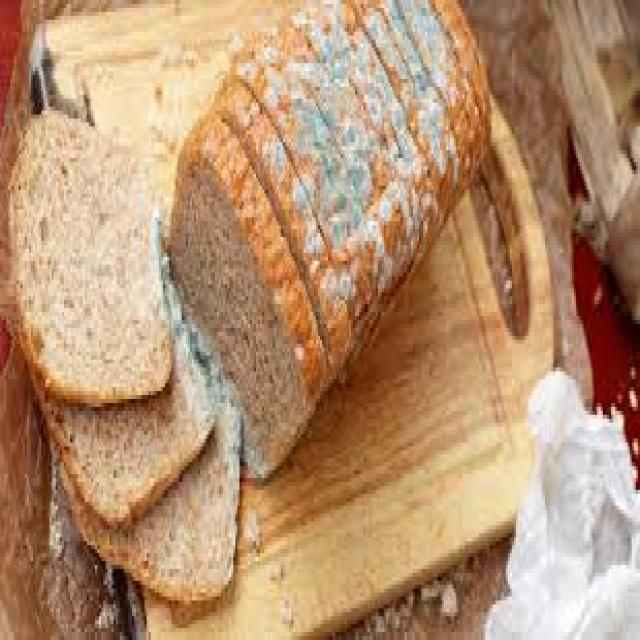organic waste: (168, 0, 490, 474), (167, 115, 328, 478), (22, 276, 214, 526), (6, 107, 169, 395), (49, 380, 240, 600)
